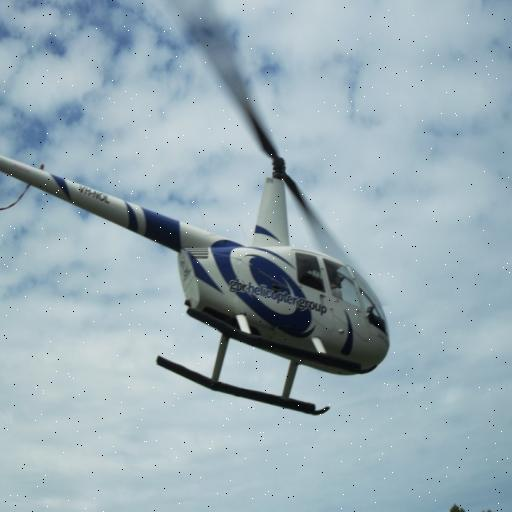helicopter: (1, 1, 391, 416)
